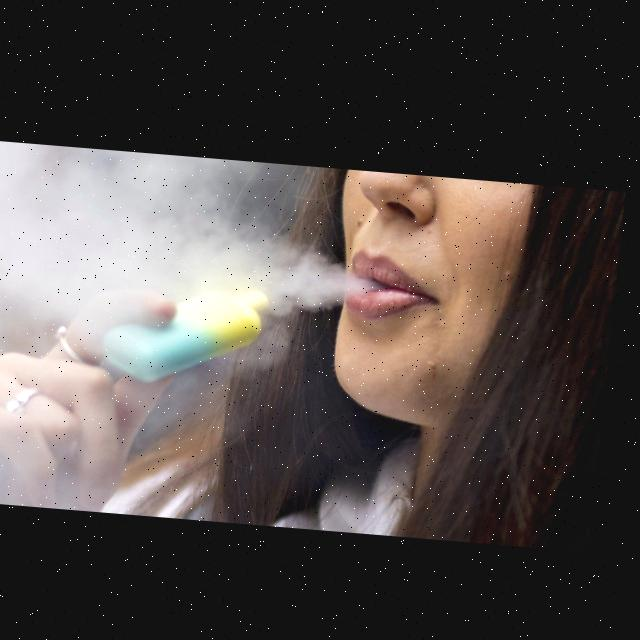vape: (111, 276, 277, 388)
